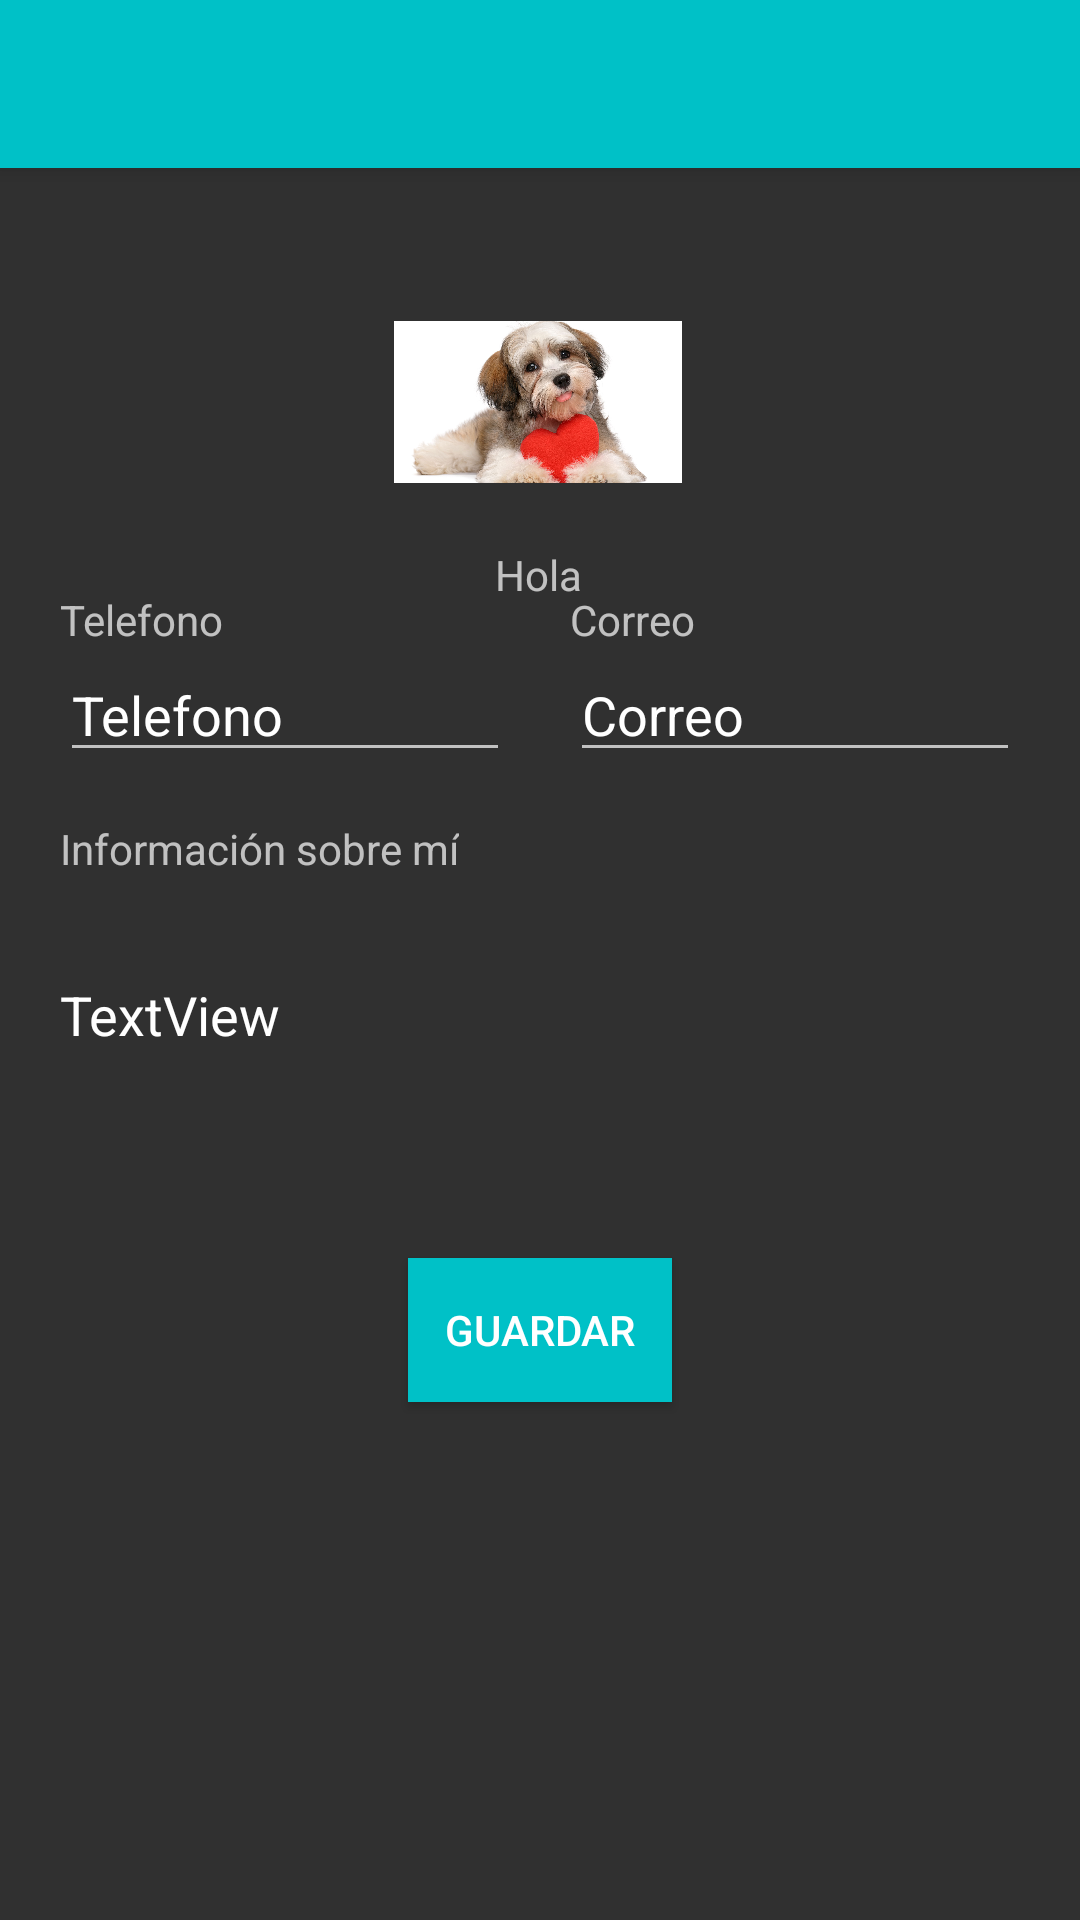

Locate icon controls on the screen. Image size 1080x1920, boxes as (x1, y1, x2, y2).
profile: (394, 321, 682, 483)
